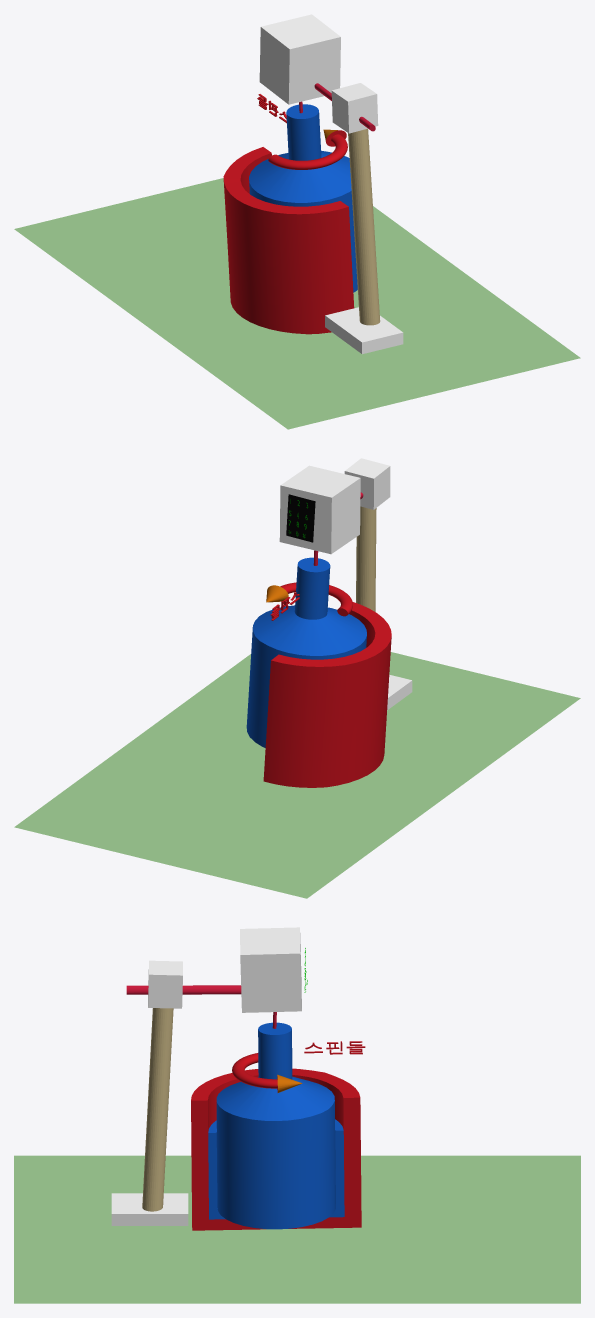
Rendered from viscometer.obj.
3 views of the same model, one above another, from view 1: azimuth 30°, elevation 25°; view 2: azimuth 150°, elevation 25°; view 3: azimuth 270°, elevation 25° (orthographic). The views are drawn at different scales.
Visible parts, largest first — view 1: Plane_Plane.002, Viscometer.container-cover_Viscometer_v1.002, Viscometer.container_Viscometer_v1.004, Cube.visco_Cube.001, Cylinder.vertical-pole_Cylinder.002, Cube.stand_Cube, Cube.mounting_Cube.002; view 2: Plane_Plane.002, Viscometer.container-cover_Viscometer_v1.002, Viscometer.container_Viscometer_v1.004, Cube.visco_Cube.001, Cylinder.vertical-pole_Cylinder.002, Cube.mounting_Cube.002, Plane.001_Plane, Cube.stand_Cube; view 3: Plane_Plane.002, Viscometer.container_Viscometer_v1.004, Viscometer.container-cover_Viscometer_v1.002, Cube.visco_Cube.001, Cylinder.vertical-pole_Cylinder.002, Cube.stand_Cube, Viscometer_v1.004_Viscometer_v1.006, Cube.mounting_Cube.002, Cylinder.horizontal-pole_Cylinder.001.
Boxes of the visible parts, x1,y1,x2,y2 form: Plane_Plane.002: (14, 178, 580, 429); Viscometer.container-cover_Viscometer_v1.002: (223, 94, 354, 334); Viscometer.container_Viscometer_v1.004: (249, 104, 357, 292); Cube.visco_Cube.001: (259, 14, 340, 104); Cylinder.vertical-pole_Cylinder.002: (348, 128, 380, 325); Cube.stand_Cube: (325, 307, 403, 354); Cube.mounting_Cube.002: (331, 83, 378, 133); Plane_Plane.002: (14, 652, 580, 898); Viscometer.container-cover_Viscometer_v1.002: (263, 582, 391, 787); Viscometer.container_Viscometer_v1.004: (246, 557, 366, 747); Cube.visco_Cube.001: (279, 465, 360, 554); Cylinder.vertical-pole_Cylinder.002: (356, 506, 376, 611); Cube.mounting_Cube.002: (344, 458, 390, 509); Plane.001_Plane: (286, 494, 315, 542); Cube.stand_Cube: (387, 674, 412, 710); Plane_Plane.002: (14, 1155, 580, 1303); Viscometer.container_Viscometer_v1.004: (216, 1022, 335, 1229); Viscometer.container-cover_Viscometer_v1.002: (191, 1041, 365, 1230); Cube.visco_Cube.001: (240, 927, 301, 1012); Cylinder.vertical-pole_Cylinder.002: (142, 1008, 173, 1211); Cube.stand_Cube: (111, 1193, 188, 1225); Viscometer_v1.004_Viscometer_v1.006: (208, 1119, 344, 1219); Cube.mounting_Cube.002: (148, 960, 182, 1008); Cylinder.horizontal-pole_Cylinder.001: (126, 985, 241, 994).
Size of the model in its own units: 52.5 by 47.3 by 85.02.
